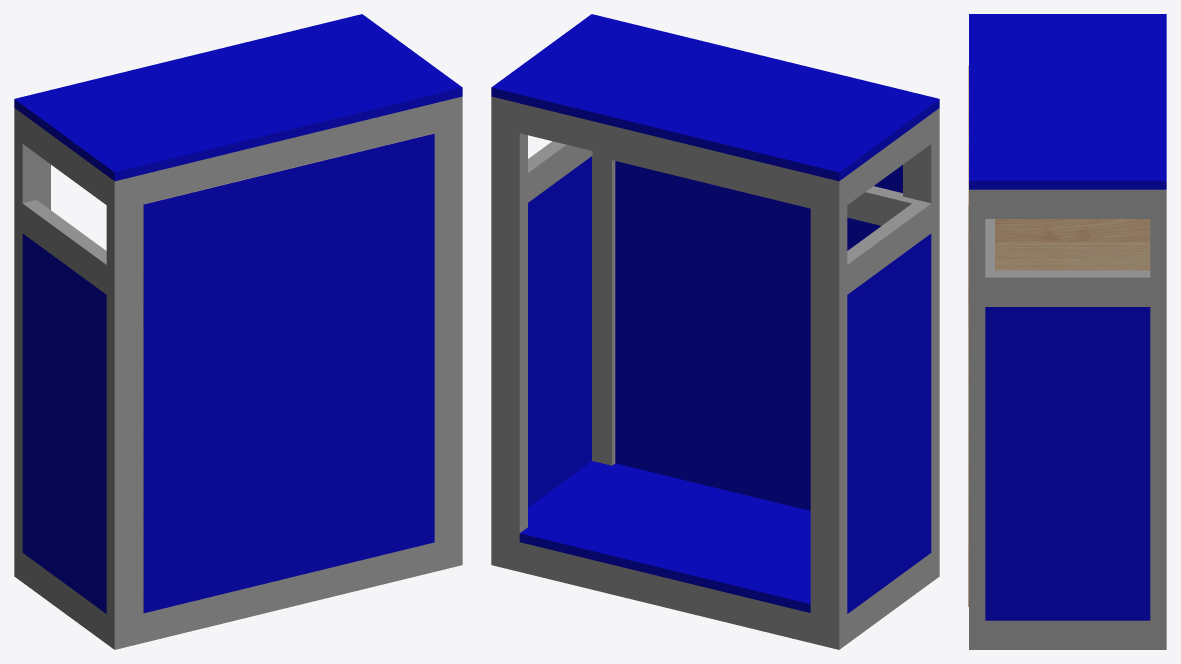
3 renders of one model, left to right at view 1: azimuth 30°, elevation 25°; view 2: azimuth 150°, elevation 25°; view 3: azimuth 270°, elevation 25°, orthographic.
Parts seen in each view (by area): view 1: Root Node, 188466; view 2: Root Node, 188466; view 3: Root Node, 188466.
Boxes of the visible parts, left/top/right/bottom form: Root Node: left=14, top=14, right=462, bottom=613; 188466: left=14, top=96, right=462, bottom=649; Root Node: left=491, top=14, right=939, bottom=613; 188466: left=491, top=96, right=939, bottom=649; Root Node: left=968, top=14, right=1166, bottom=620; 188466: left=969, top=189, right=1166, bottom=649.
Size of the model in its own units: 0.61 by 0.8 by 0.306.
135 materials, 22 textured.
